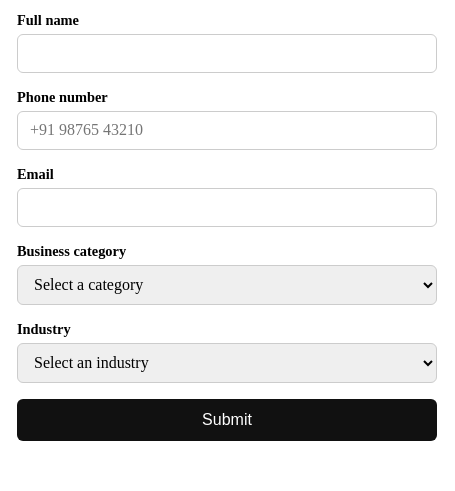
Test: LeadForm › shows a generic error message for an unexpected server error
The image size is (455, 491).
Type "Vansh Shah" into the field labelled "Full name".
click(227, 53); type("Vansh Shah")  # box [17, 34, 437, 73]
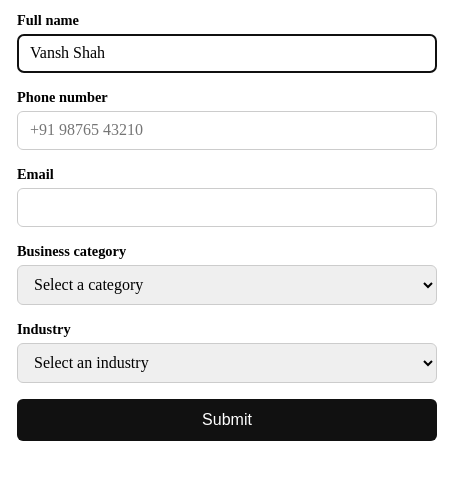
Type "+919876543210" into the field labelled "Phone number".
click(227, 130); type("+919876543210")  # box [17, 111, 437, 150]
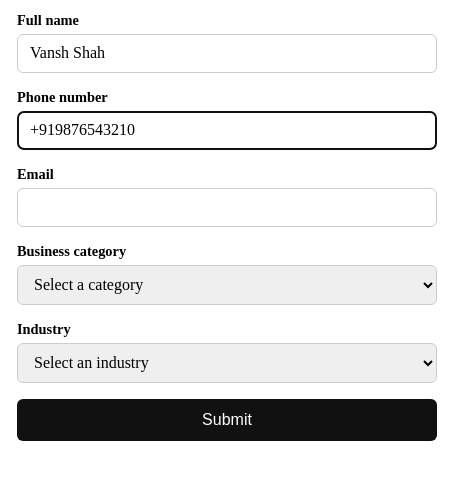
Type "vansh@example.com" into the field labelled "Email".
click(227, 207); type("vansh@example.com")  # box [17, 188, 437, 227]
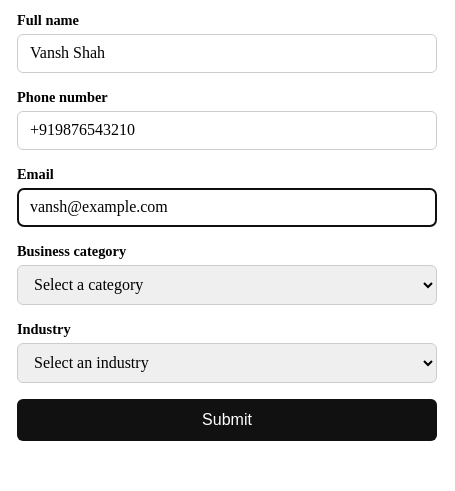
Select "Manufacturing" in the dropdown labelled "Business category" at (227, 285), box [17, 265, 437, 305]
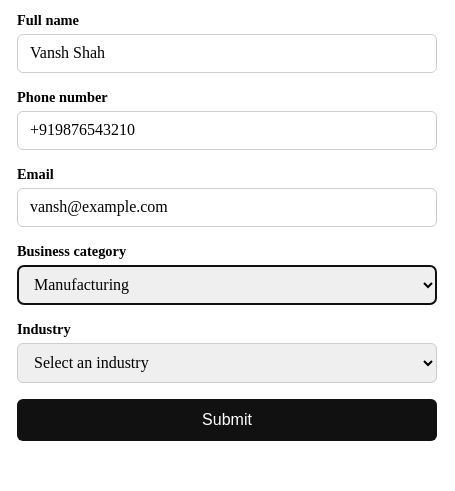
Select "Textiles & Fabrics" in the dropdown labelled "Industry" at (227, 363), box [17, 343, 437, 383]
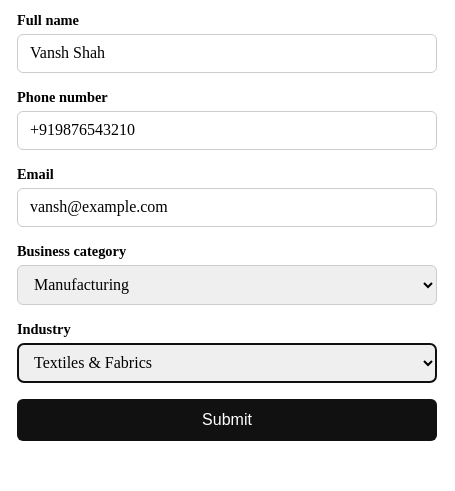
Click the button "Submit".
click(227, 420)  # box [17, 399, 437, 441]
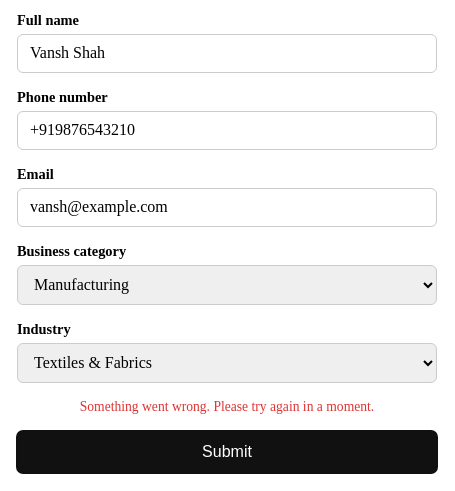
Result: the text "Something went wrong. Please try again in a moment." is shown at [80, 399, 374, 414]
